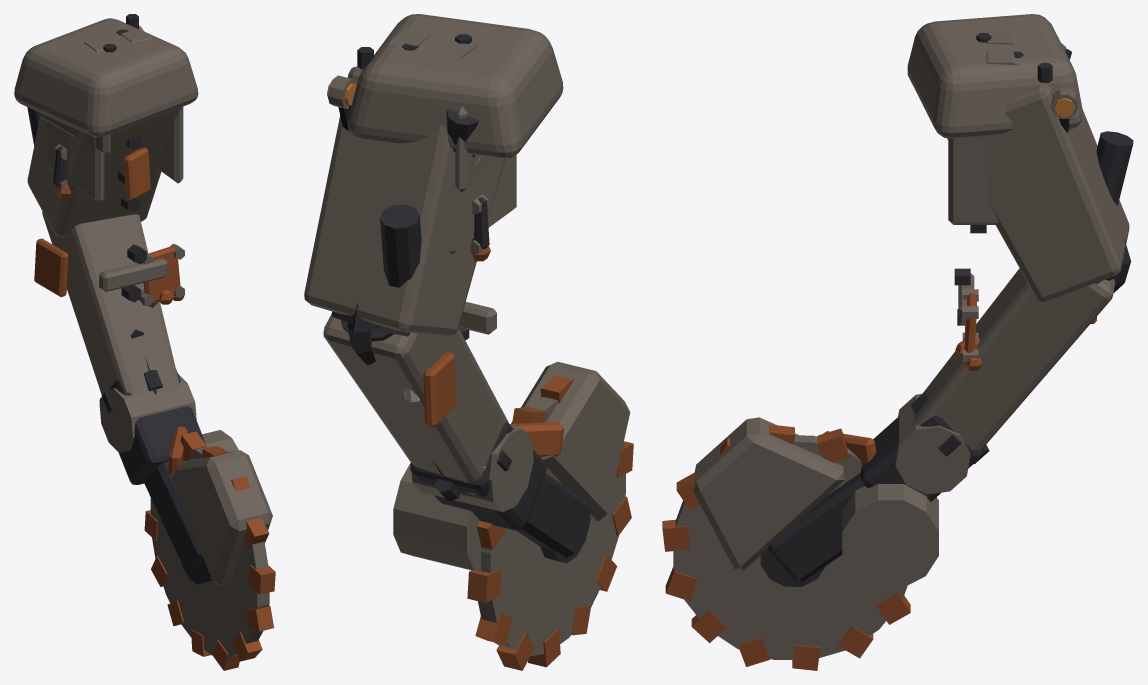
File: ar_cleaver.glb
3 renders of one model, left to right at view 1: azimuth 30°, elevation 25°; view 2: azimuth 150°, elevation 25°; view 3: azimuth 270°, elevation 25°, orthographic. The views are drawn at different scales.
Visible parts, largest first — view 1: ar_cleaver; view 2: ar_cleaver; view 3: ar_cleaver.
Boxes of the visible parts, x1=… form: ar_cleaver: x1=14, y1=14, x2=275, y2=670; ar_cleaver: x1=304, y1=14, x2=633, y2=670; ar_cleaver: x1=662, y1=14, x2=1133, y2=670.
Bounding box in the file's own units: 0.1302 × 0.4771 × 0.3273.
